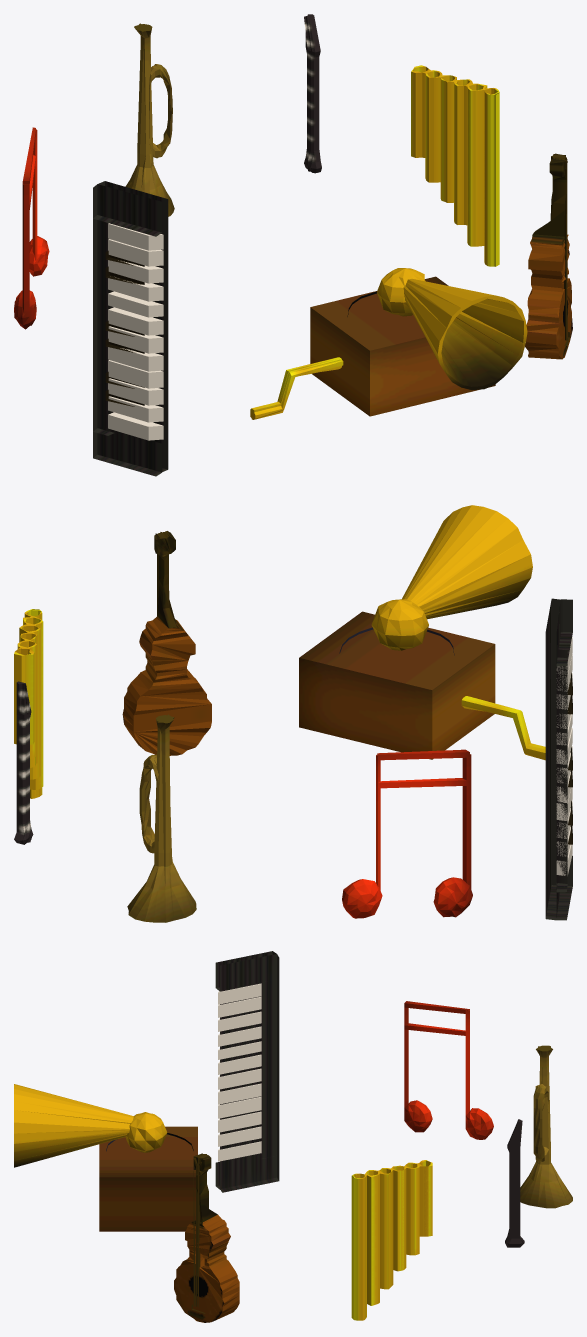
The model's file is Pltrgist.glb.
The picture shows the model from 3 angles, top to bottom: view 1: azimuth 30°, elevation 25°; view 2: azimuth 150°, elevation 25°; view 3: azimuth 270°, elevation 25°; orthographic projection. The views are drawn at different scales.
Parts seen in each view (by area): view 1: Pltrgist; view 2: Pltrgist; view 3: Pltrgist.
Boxes of the visible parts, x1,y1,x2,y2 form: Pltrgist: [14, 14, 572, 476]; Pltrgist: [14, 505, 572, 922]; Pltrgist: [14, 951, 572, 1322].
Bounding box in the file's own units: 665 × 376 × 851.
Materials: 1 (1 with a texture image).
